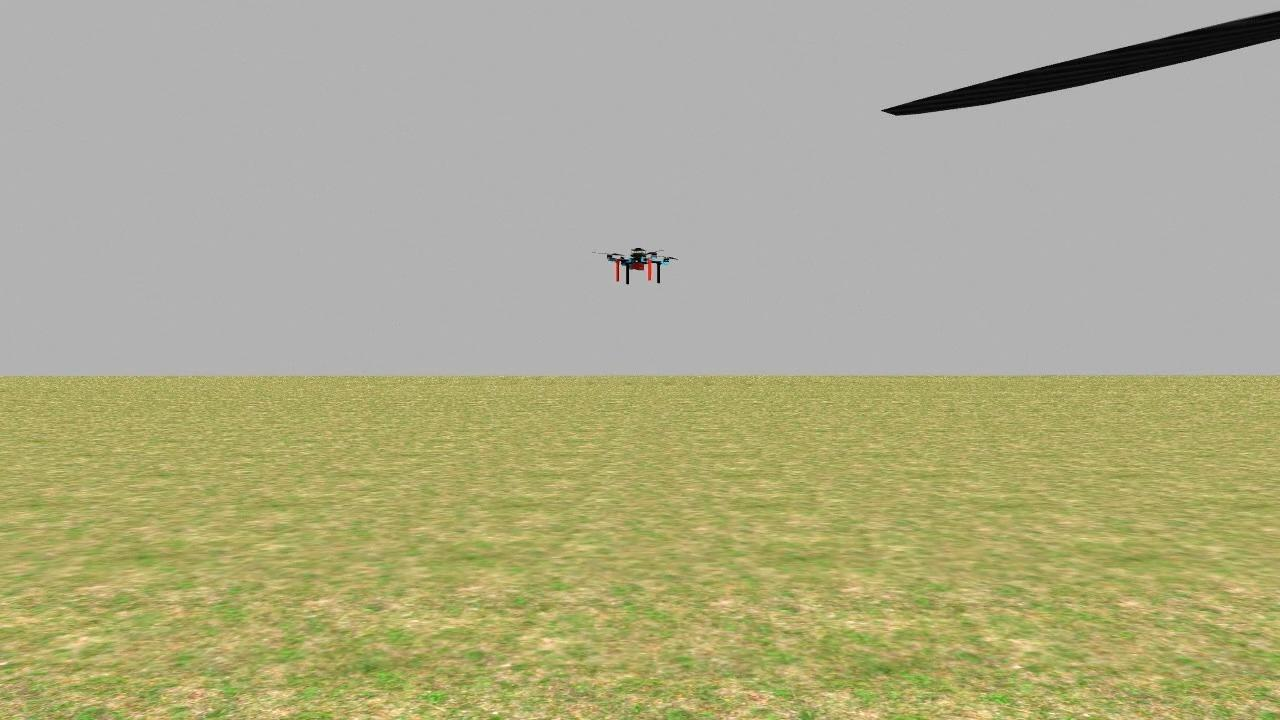UAV: (594, 241, 678, 292)
